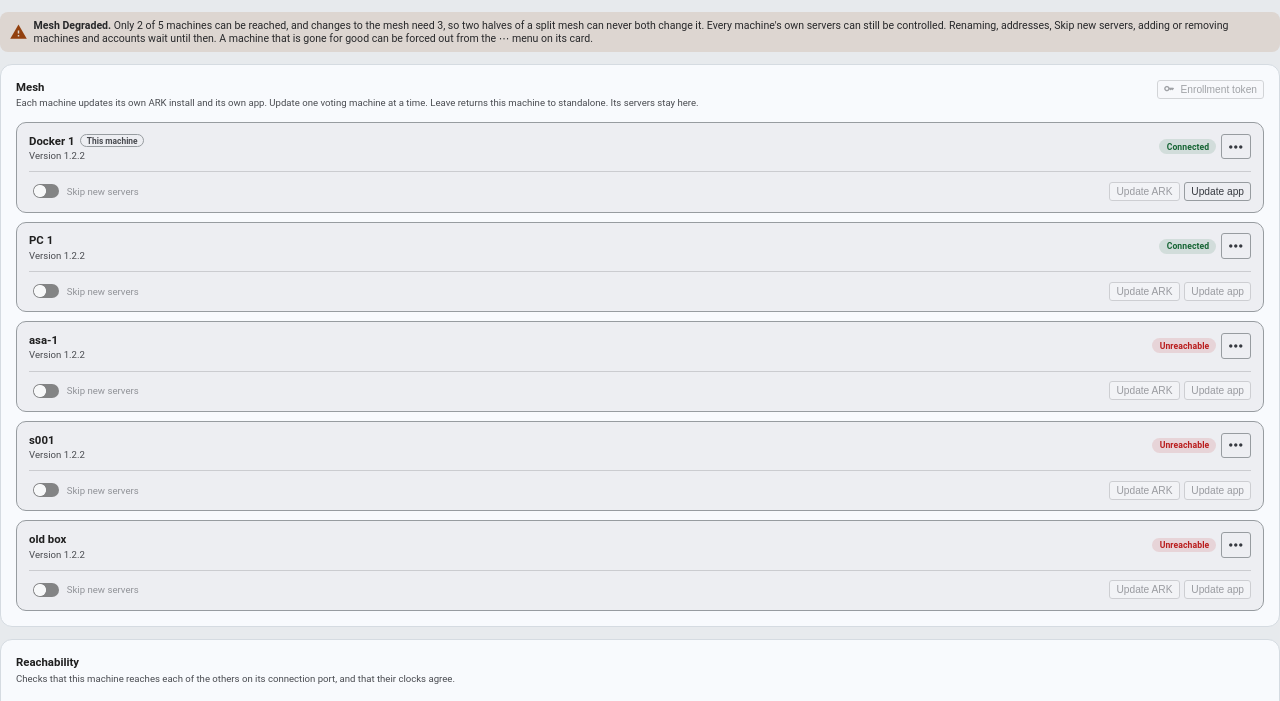
Test: MeshSettingsComponent › forcing out machines that cannot be reached › will not force out too few for the rest to agree
This screenshot has width=1280, height=701.
Click the button with class "mesh-node-more" in the row of "asa-1" at (1236, 346), box [1221, 333, 1251, 359]
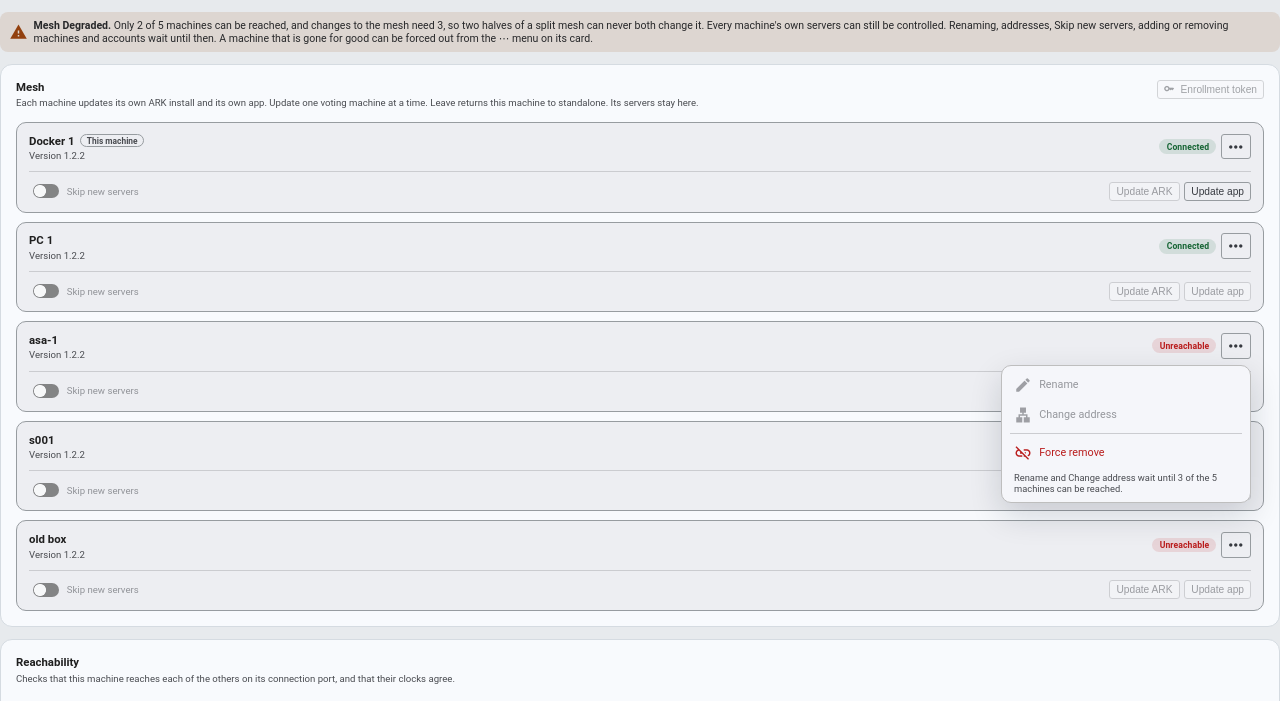
Click the menu item "Force remove" at (1126, 453), box [1006, 438, 1246, 468]
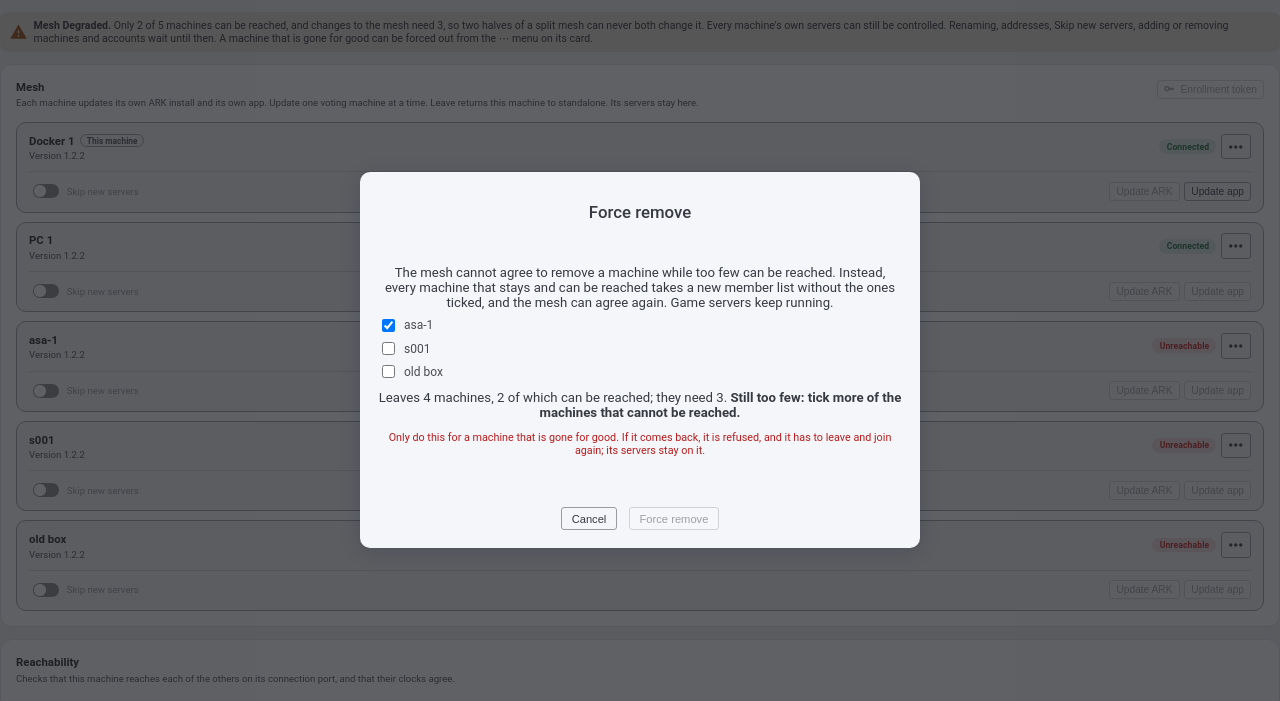
Expected: the element with class "mesh-force-remove-plan" shows "Still too few", [540, 390, 901, 420]
Expected: the button "Force remove" is disabled, [629, 507, 719, 530]
Click the checkbox labelled "s001" at (388, 348), box [382, 342, 395, 355]
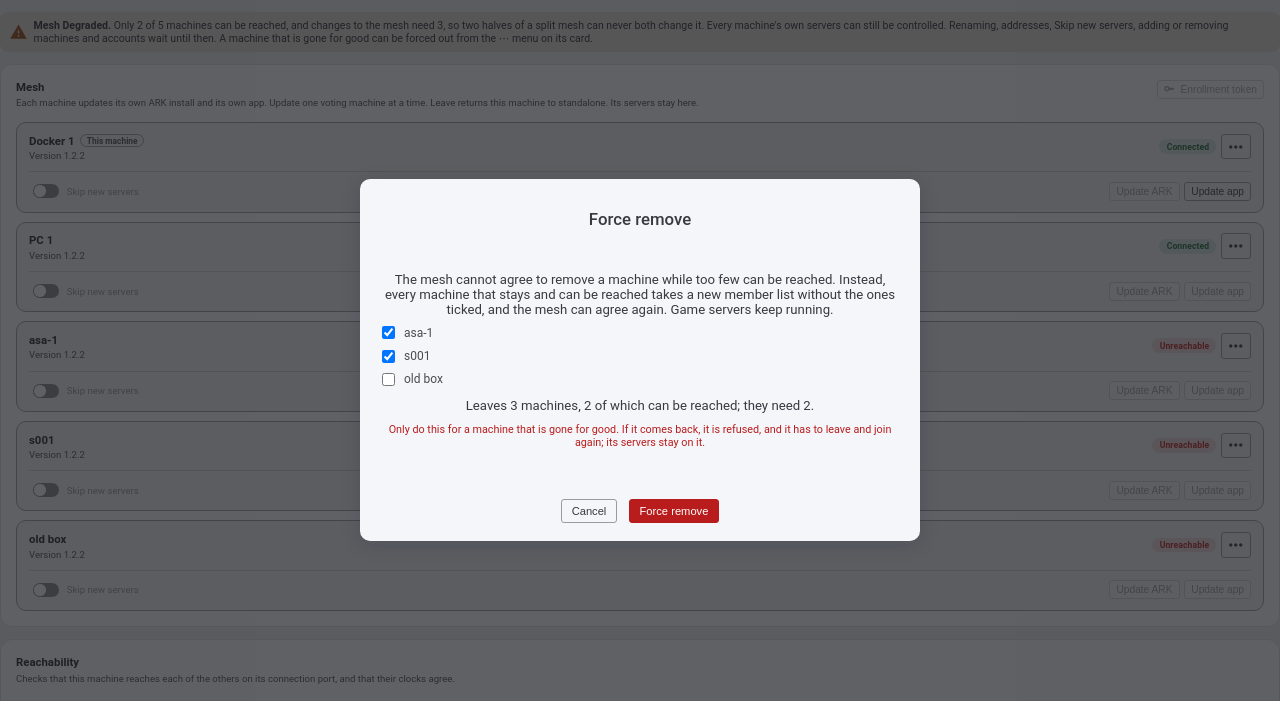
Expected: the button "Force remove" is enabled, [629, 499, 719, 523]
